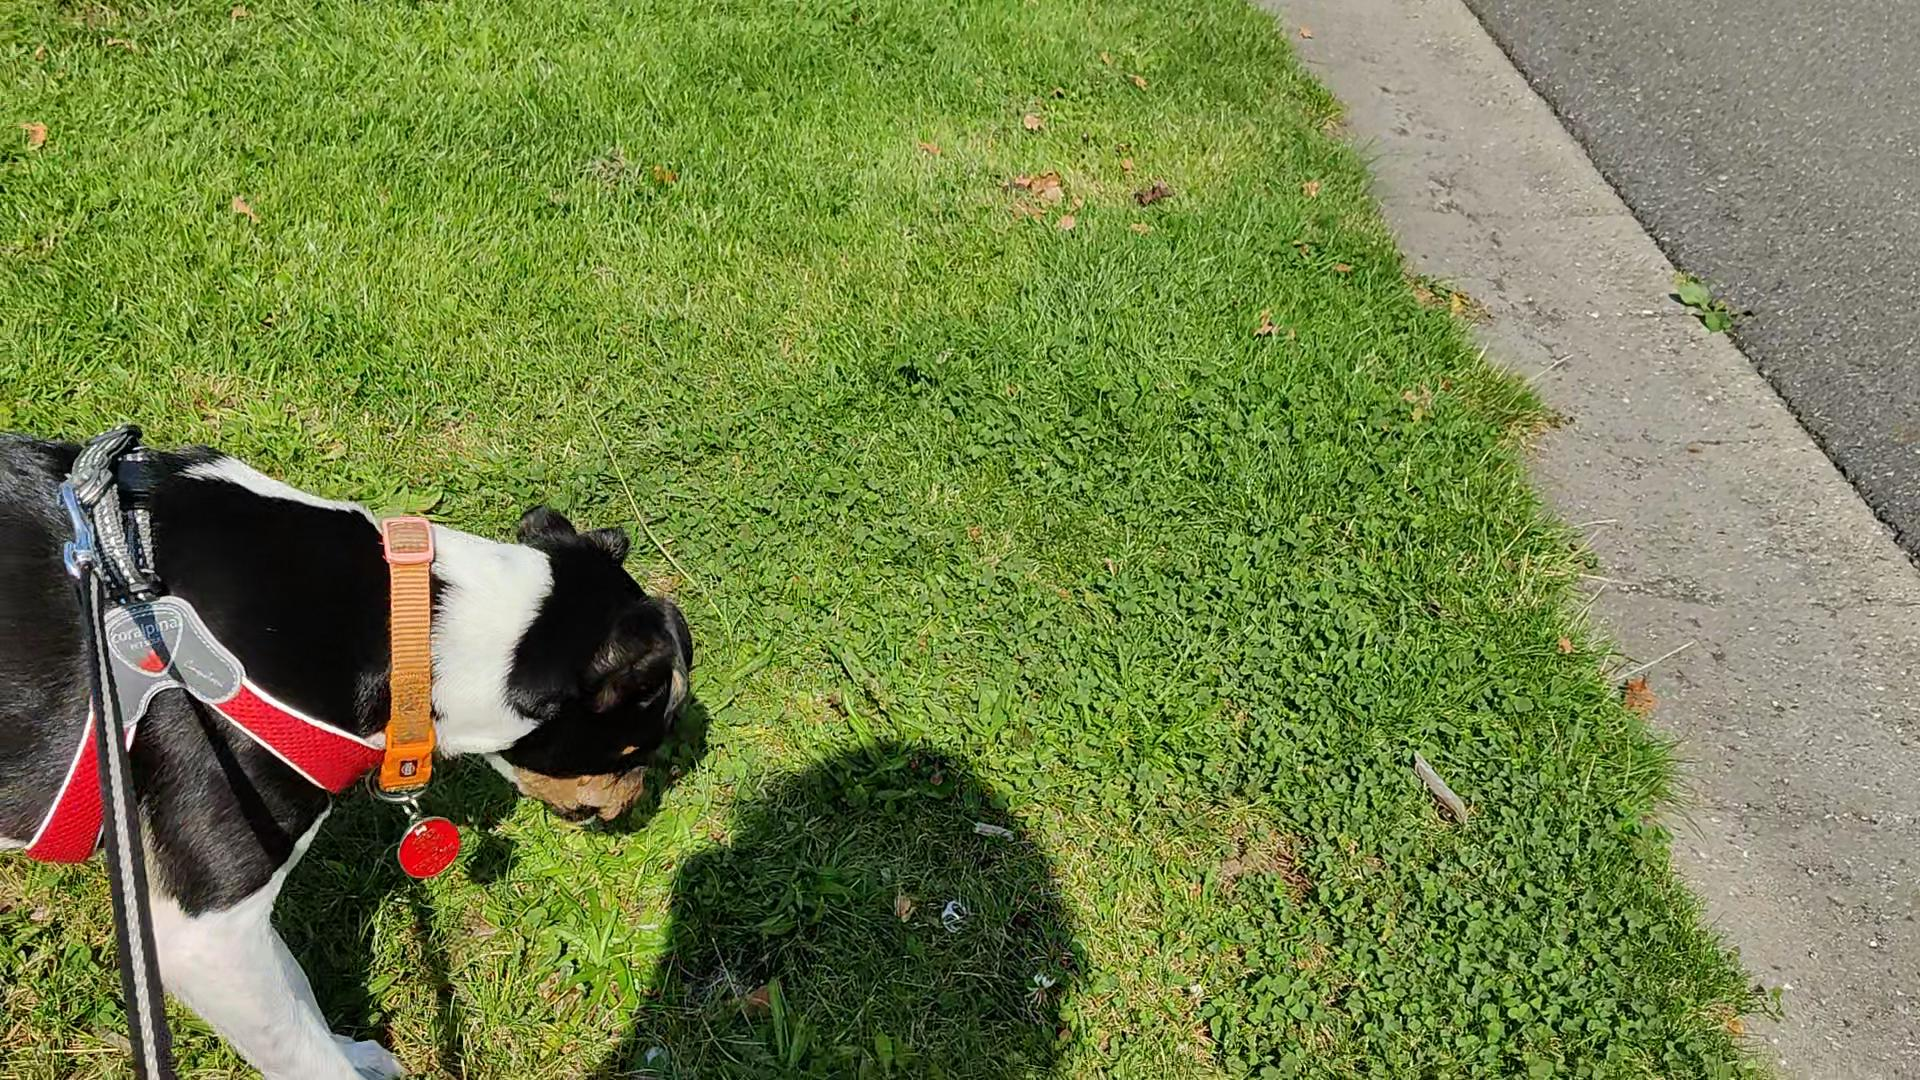Dog: (0, 407, 702, 1079)
